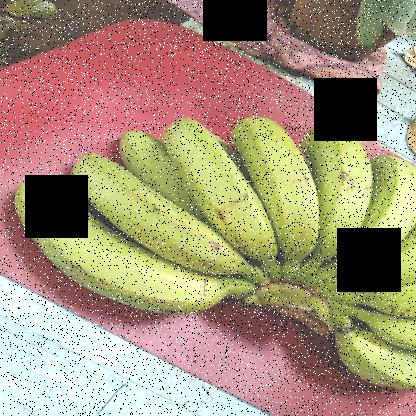freshunripe: (10, 178, 239, 318), (63, 152, 246, 279), (228, 108, 328, 262), (334, 153, 415, 270), (113, 126, 191, 211)
